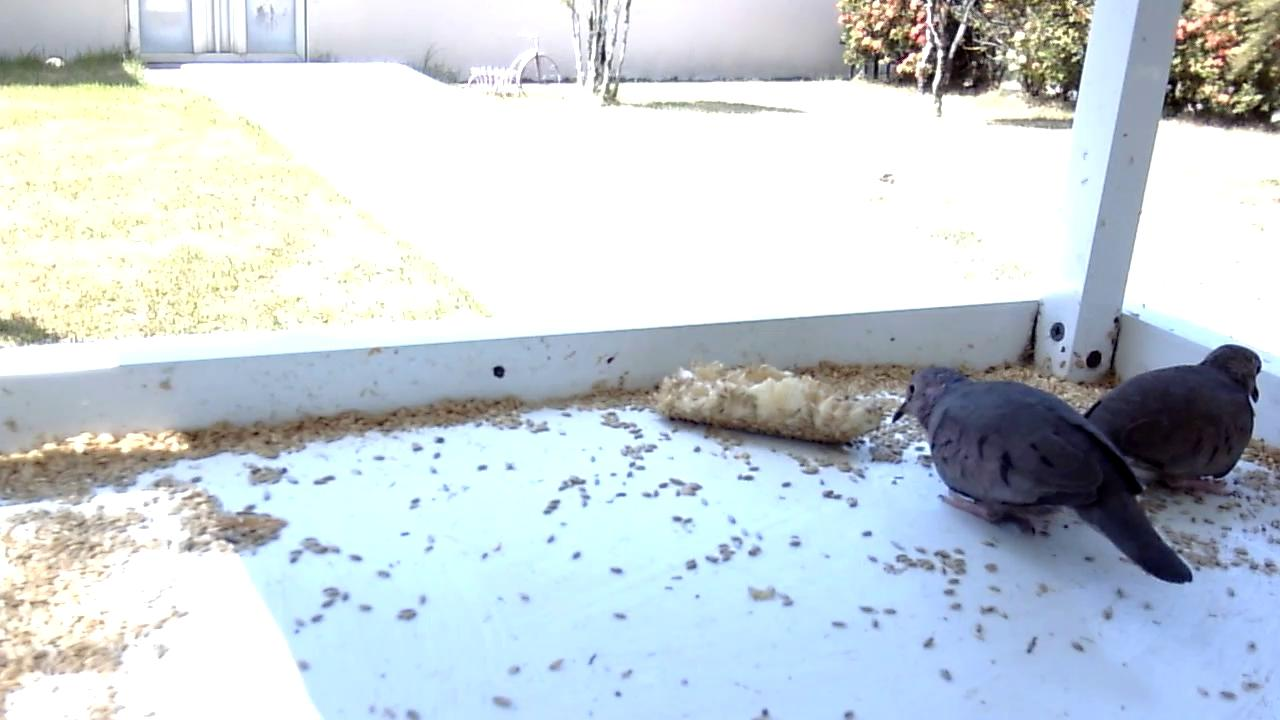rolinha: (892, 366, 1195, 587), (1082, 342, 1265, 499)
